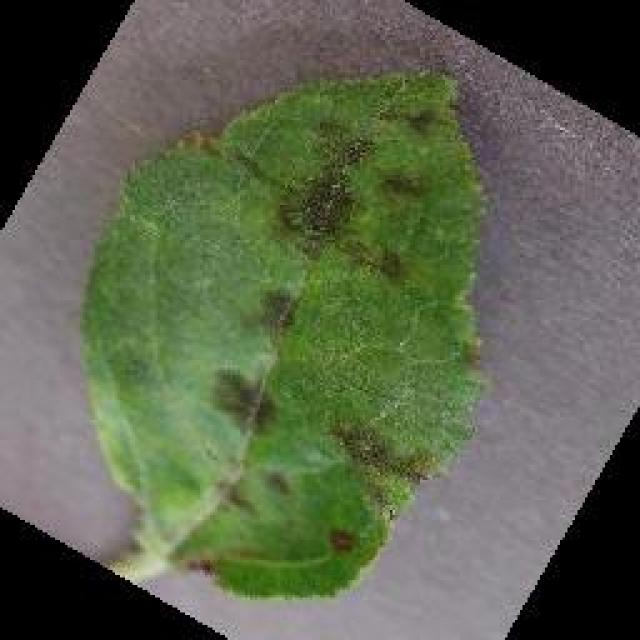apple scab disease: (75, 65, 493, 600)
